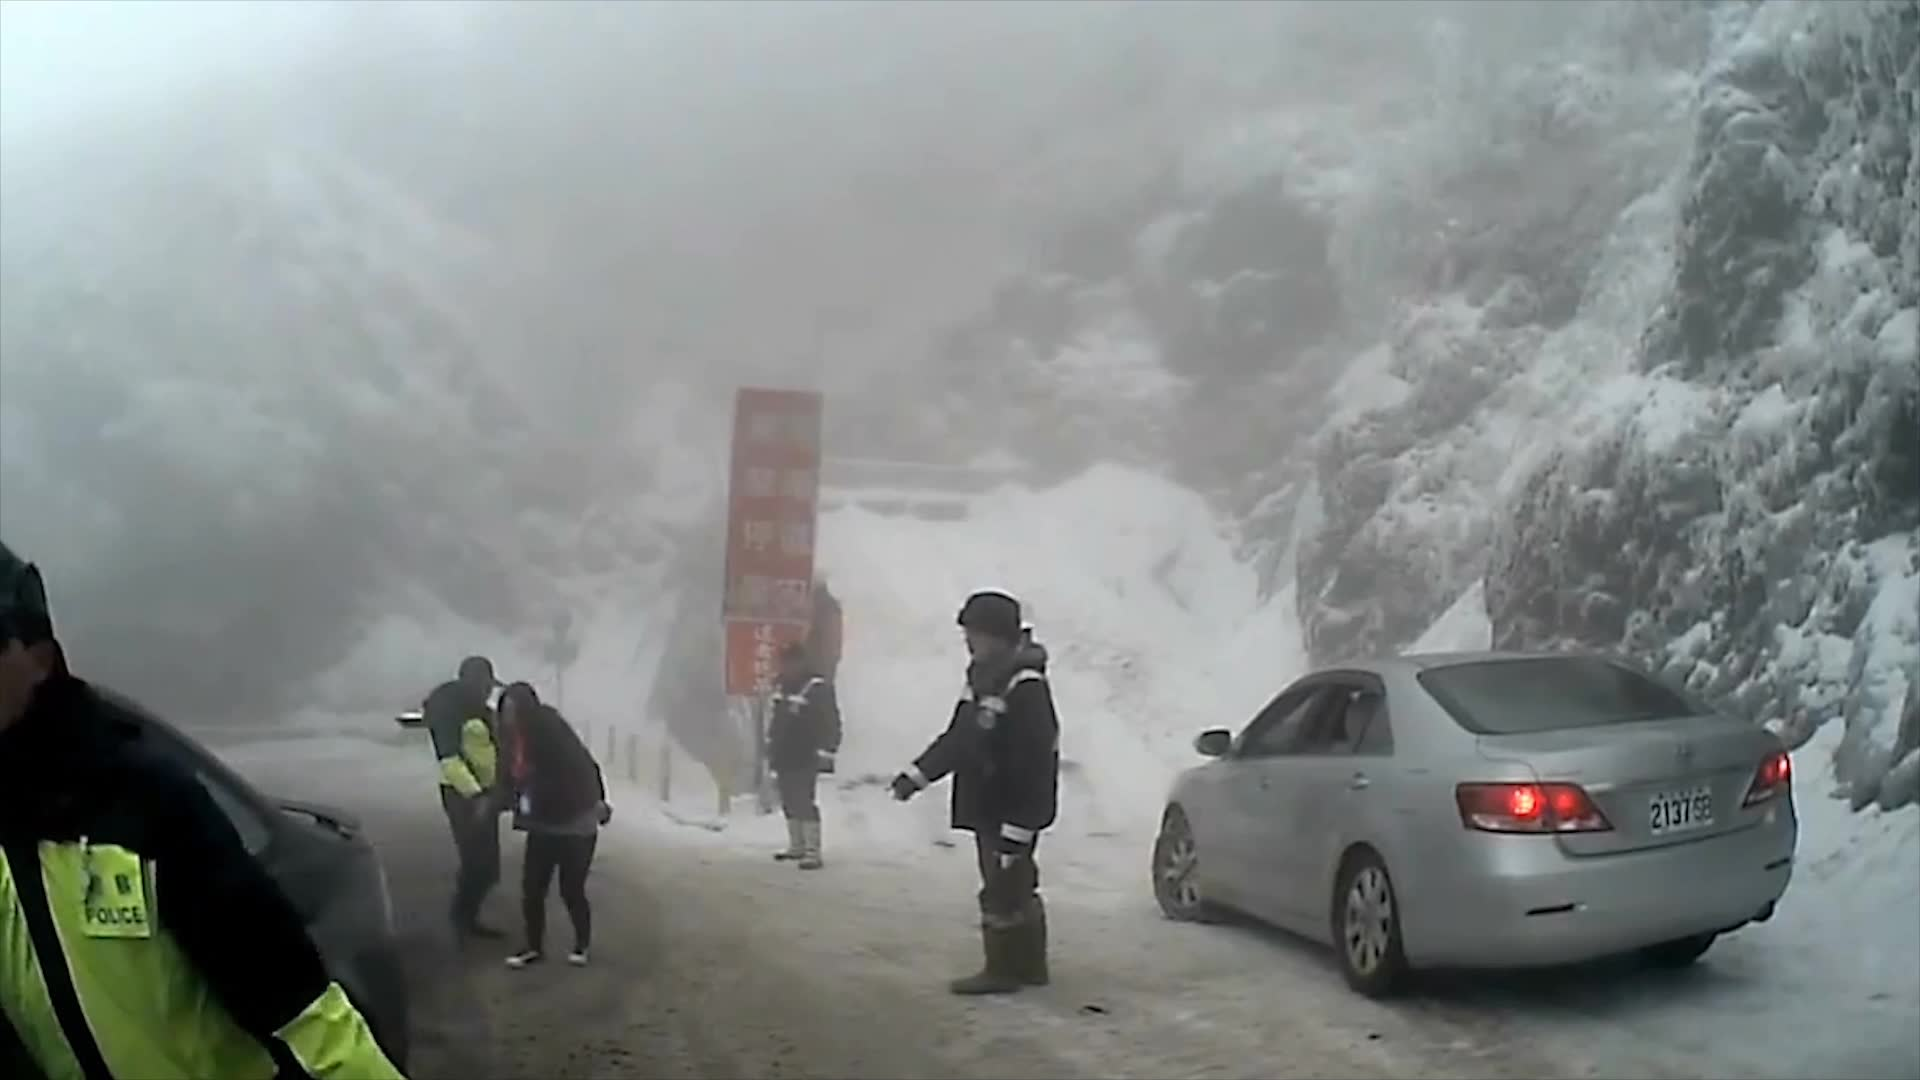pedestrian: (1, 551, 400, 1080), (894, 586, 1064, 1000), (491, 679, 614, 967), (418, 657, 534, 939), (764, 636, 842, 872), (784, 564, 846, 743)
vehicle: (1145, 649, 1797, 1000), (0, 663, 408, 1079)
